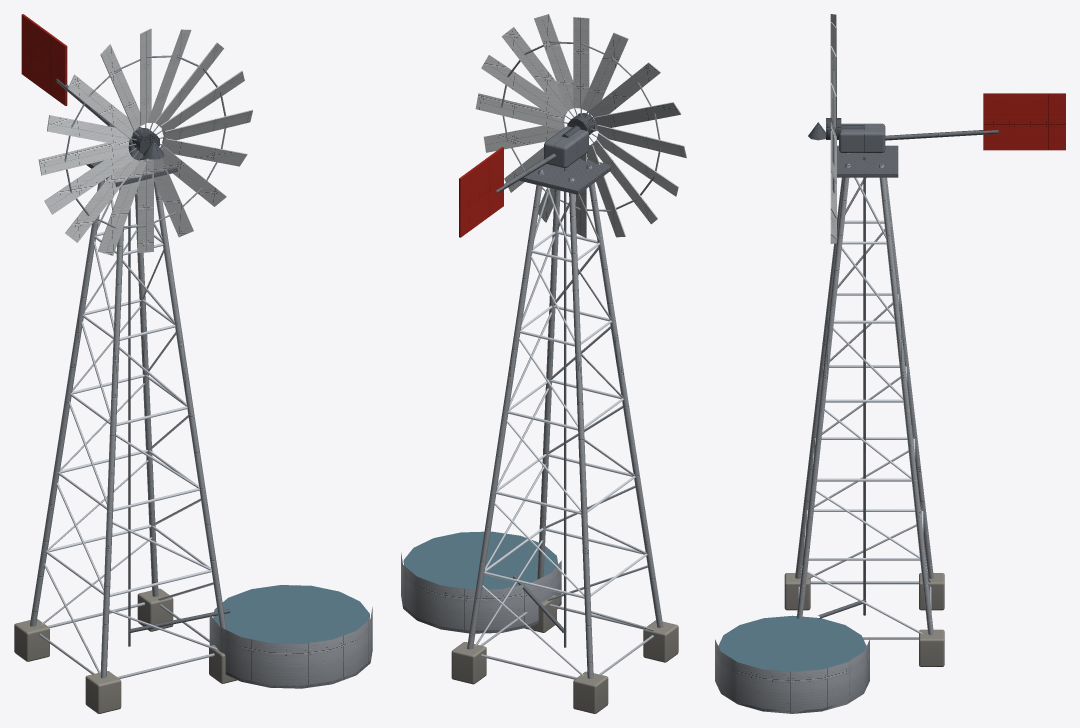
File: moinho_de_vento.glb
3 views of the same model, side by side, from view 1: azimuth 30°, elevation 25°; view 2: azimuth 150°, elevation 25°; view 3: azimuth 270°, elevation 25° (orthographic). The views are drawn at different scales.
Visible parts, largest first — view 1: moinho_de_vento, moinho_de_vento_liso; view 2: moinho_de_vento, moinho_de_vento_liso; view 3: moinho_de_vento, moinho_de_vento_liso.
Part boxes in pixels (x1,y1,x2,y2): moinho_de_vento: (21, 14, 372, 688); moinho_de_vento_liso: (14, 191, 372, 713); moinho_de_vento: (401, 14, 686, 678); moinho_de_vento_liso: (401, 165, 678, 713); moinho_de_vento: (715, 14, 1065, 713); moinho_de_vento_liso: (715, 153, 944, 713).
Bounding box in the file's own units: 6.32 × 13.02 × 6.8.
Materials: 5 (3 with a texture image).
